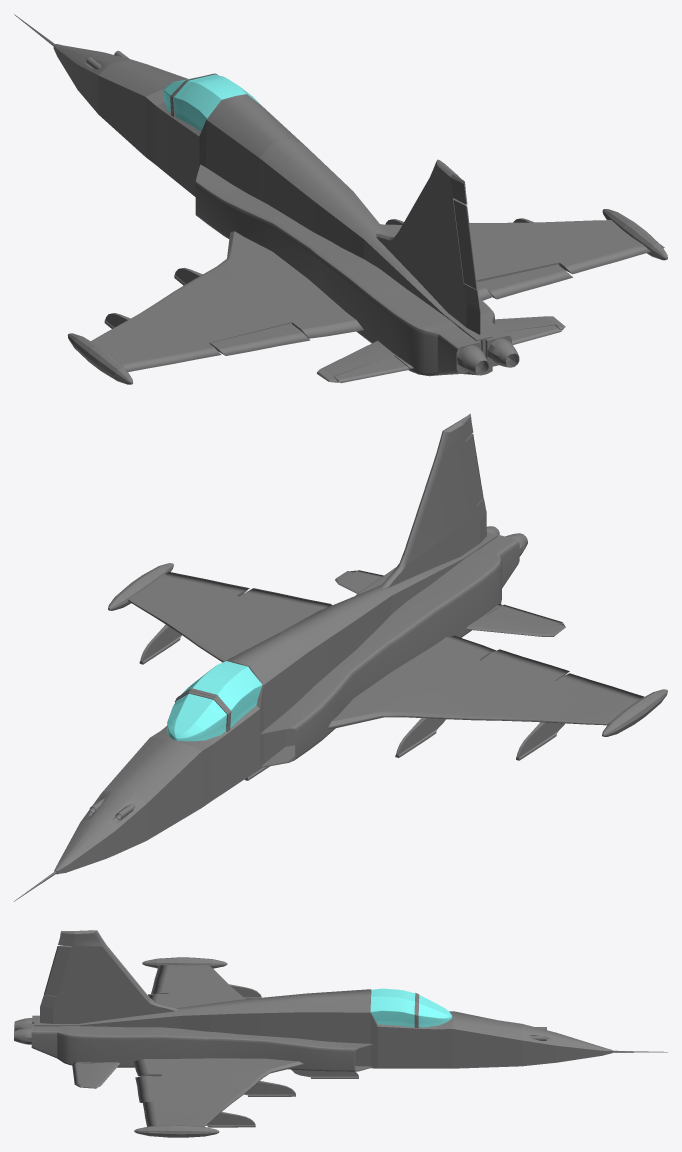
3 renders of one model, top to bottom at view 1: azimuth 30°, elevation 25°; view 2: azimuth 150°, elevation 25°; view 3: azimuth 270°, elevation 25°, orthographic. The views are drawn at different scales.
Parts seen in each view (by area): view 1: group1 polySurface6FBXASC032polySurface44, group1 polySurface6FBXASC032polySurface34, group1 polySurface6FBXASC032polySurface32, group1 polySurface6FBXASC032polySurface25, group1 polySurface6FBXASC032polySurface13, group1 polySurface6FBXASC032polySurface45, group1 polySurface6FBXASC032polySurface31, group1 polySurface6FBXASC032polySurface22, group1 polySurface6FBXASC032polySurface27, group1 polySurface6FBXASC032polySurface35, group1 polySurface6FBXASC032polySurface37, group1 polySurface6FBXASC032polySurface26 (+6 smaller); view 2: group1 polySurface6FBXASC032polySurface44, group1 polySurface6FBXASC032polySurface34, group1 polySurface6FBXASC032polySurface32, group1 polySurface6FBXASC032polySurface25, group1 polySurface6FBXASC032polySurface13, group1 polySurface6FBXASC032polySurface45, group1 polySurface6FBXASC032polySurface43, group1 polySurface6FBXASC032polySurface27, group1 polySurface6FBXASC032polySurface31, group1 polySurface6FBXASC032polySurface35, group1 polySurface6FBXASC032polySurface22, group1 polySurface6FBXASC032polySurface26 (+3 smaller); view 3: group1 polySurface6FBXASC032polySurface44, group1 polySurface6FBXASC032polySurface23, group1 polySurface6FBXASC032polySurface25, group1 polySurface6FBXASC032polySurface13, group1 polySurface6FBXASC032polySurface34, group1 polySurface6FBXASC032polySurface45, group1 polySurface6FBXASC032polySurface26, group1 polySurface6FBXASC032polySurface37, group1 polySurface6FBXASC032polySurface43, group1 polySurface6FBXASC032polySurface35, group1 polySurface6FBXASC032polySurface18, group1 polySurface6FBXASC032polySurface22 (+4 smaller).
Boxes of the visible parts, left/top/right/bottom form: group1 polySurface6FBXASC032polySurface44: left=53, top=44, right=492, bottom=375; group1 polySurface6FBXASC032polySurface34: left=91, top=231, right=363, bottom=371; group1 polySurface6FBXASC032polySurface32: left=195, top=164, right=481, bottom=376; group1 polySurface6FBXASC032polySurface25: left=380, top=220, right=664, bottom=300; group1 polySurface6FBXASC032polySurface13: left=376, top=159, right=480, bottom=334; group1 polySurface6FBXASC032polySurface45: left=174, top=74, right=261, bottom=131; group1 polySurface6FBXASC032polySurface31: left=210, top=323, right=310, bottom=355; group1 polySurface6FBXASC032polySurface22: left=478, top=264, right=572, bottom=299; group1 polySurface6FBXASC032polySurface27: left=316, top=341, right=413, bottom=382; group1 polySurface6FBXASC032polySurface35: left=67, top=333, right=132, bottom=384; group1 polySurface6FBXASC032polySurface37: left=453, top=199, right=477, bottom=289; group1 polySurface6FBXASC032polySurface26: left=602, top=209, right=667, bottom=260; group1 polySurface6FBXASC032polySurface44: left=54, top=532, right=497, bottom=874; group1 polySurface6FBXASC032polySurface34: left=328, top=635, right=644, bottom=728; group1 polySurface6FBXASC032polySurface32: left=260, top=534, right=519, bottom=767; group1 polySurface6FBXASC032polySurface25: left=128, top=571, right=332, bottom=662; group1 polySurface6FBXASC032polySurface13: left=381, top=413, right=486, bottom=588; group1 polySurface6FBXASC032polySurface45: left=181, top=661, right=262, bottom=727; group1 polySurface6FBXASC032polySurface43: left=167, top=693, right=226, bottom=741; group1 polySurface6FBXASC032polySurface27: left=466, top=604, right=565, bottom=636; group1 polySurface6FBXASC032polySurface31: left=481, top=649, right=569, bottom=680; group1 polySurface6FBXASC032polySurface35: left=602, top=689, right=667, bottom=736; group1 polySurface6FBXASC032polySurface22: left=240, top=588, right=331, bottom=613; group1 polySurface6FBXASC032polySurface26: left=108, top=563, right=173, bottom=610; group1 polySurface6FBXASC032polySurface44: left=34, top=989, right=612, bottom=1068; group1 polySurface6FBXASC032polySurface23: left=31, top=1024, right=372, bottom=1071; group1 polySurface6FBXASC032polySurface25: left=133, top=1058, right=303, bottom=1133; group1 polySurface6FBXASC032polySurface13: left=40, top=930, right=178, bottom=1023; group1 polySurface6FBXASC032polySurface34: left=151, top=965, right=245, bottom=1008; group1 polySurface6FBXASC032polySurface45: left=370, top=988, right=415, bottom=1027; group1 polySurface6FBXASC032polySurface26: left=134, top=1125, right=219, bottom=1137; group1 polySurface6FBXASC032polySurface37: left=44, top=945, right=72, bottom=996; group1 polySurface6FBXASC032polySurface43: left=418, top=995, right=452, bottom=1027; group1 polySurface6FBXASC032polySurface35: left=142, top=957, right=227, bottom=968; group1 polySurface6FBXASC032polySurface18: left=73, top=1062, right=120, bottom=1088; group1 polySurface6FBXASC032polySurface22: left=135, top=1076, right=161, bottom=1102.
Bounding box in the file's own units: 7.83 × 3.07 × 12.49.
